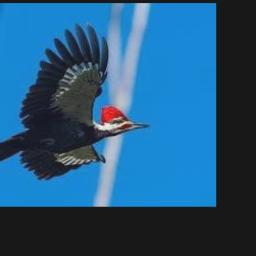Woodpecker: (0, 22, 149, 180)
